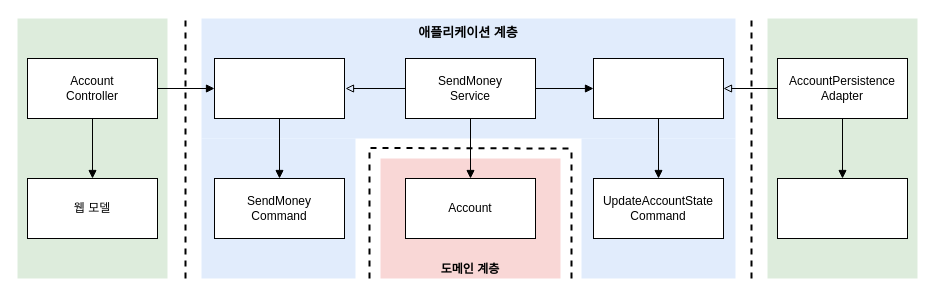
This 934x297 diagram has some shape labels left out. The box of each missing label's shape, as (x1, y1, x2, y2) in pixels:
<<interface>> SendMoney UseCase: (214, 58, 344, 118)
<<interface>> UpdateAccountState Port: (592, 58, 724, 118)
영속성 계층: (767, 18, 917, 278)
영속성 모델: (776, 178, 908, 238)
웹 계층: (17, 18, 167, 278)
